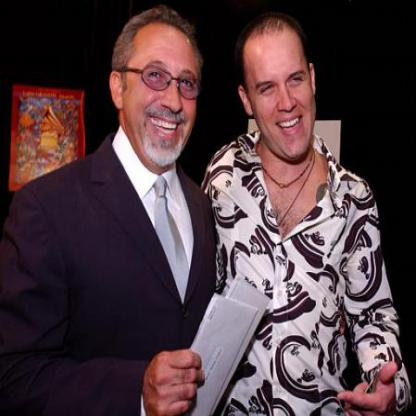face: (125, 11, 200, 169), (248, 16, 316, 161)
